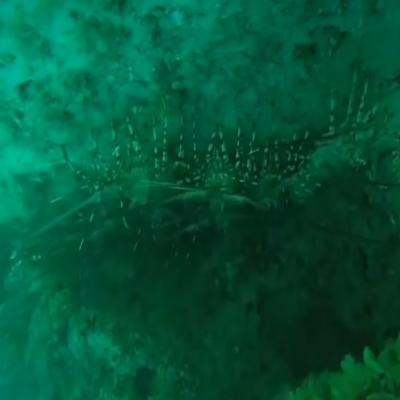lobster: (311, 112, 365, 193), (197, 137, 244, 212), (122, 137, 166, 211), (254, 157, 278, 213)
